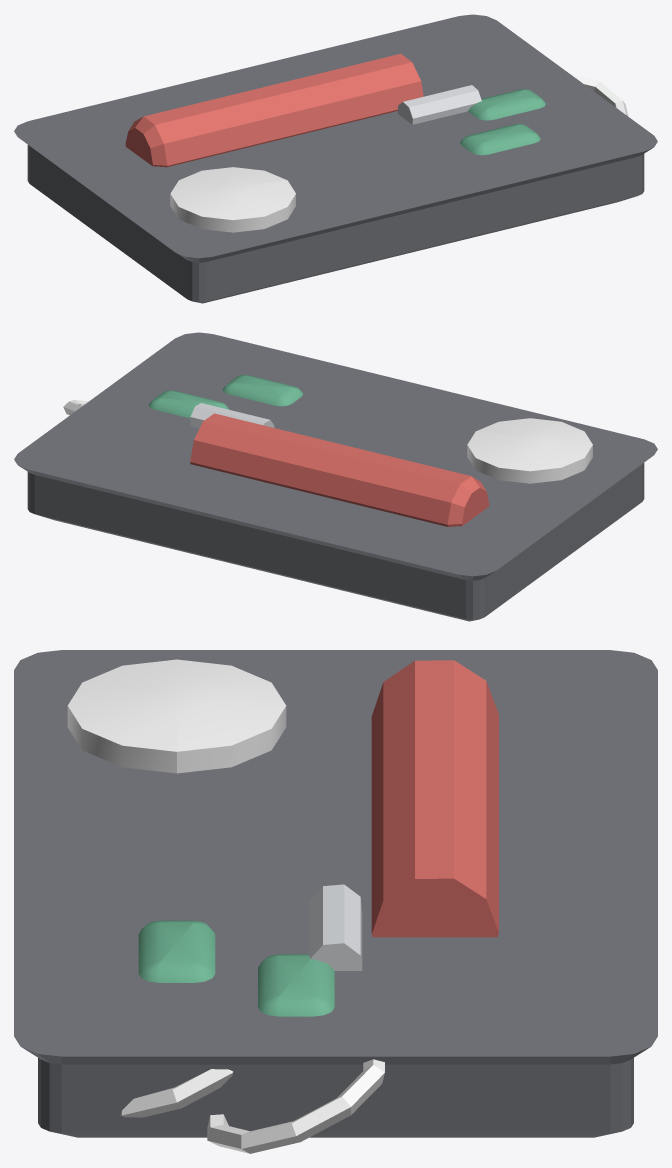
Rendered from community-sports-hall-and-changing-rooms-pump-and-whis-2e97e815.glb.
3 renders of one model, top to bottom at view 1: azimuth 30°, elevation 25°; view 2: azimuth 150°, elevation 25°; view 3: azimuth 270°, elevation 25°, orthographic. The views are drawn at different scales.
Visible parts, largest first — view 1: pump-and-whistle-tray; view 2: pump-and-whistle-tray; view 3: pump-and-whistle-tray.
Boxes of the visible parts, bbox=[...] form: pump-and-whistle-tray: bbox=[14, 14, 657, 303]; pump-and-whistle-tray: bbox=[14, 332, 657, 621]; pump-and-whistle-tray: bbox=[14, 650, 657, 1153].
Bounding box in the file's own units: 0.523 × 0.0926 × 0.324.
